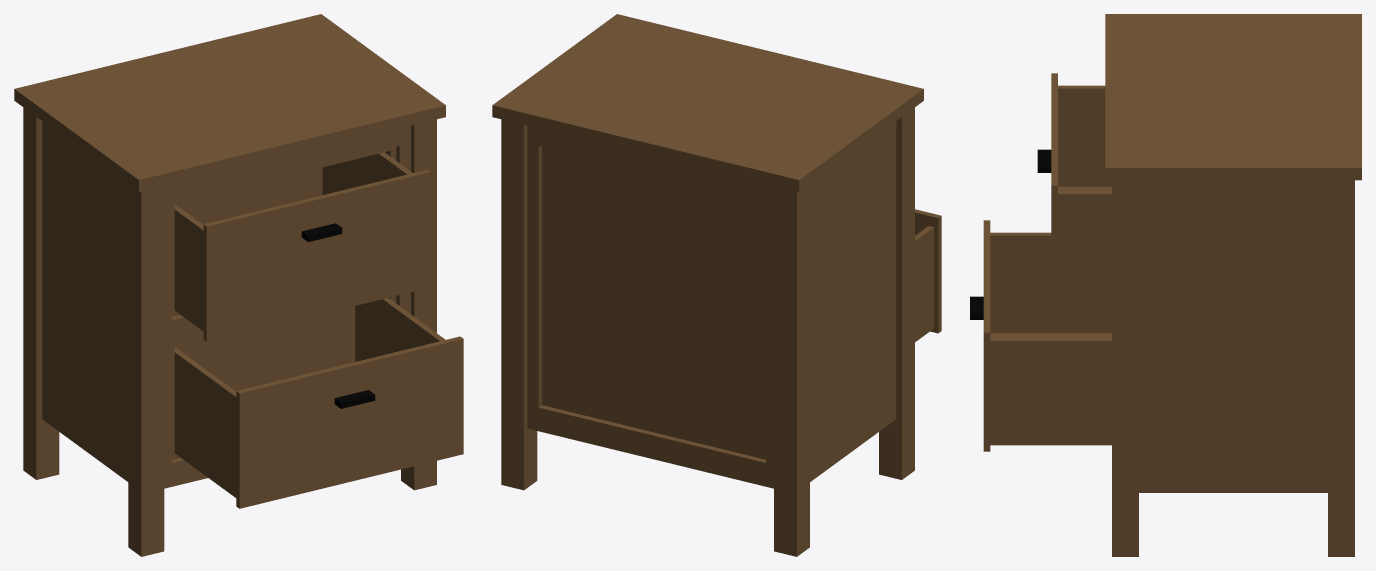
Rendered from JamPre_low_poly_Drawer_Chest.fbx.
The picture shows the model from 3 angles, left to right: view 1: azimuth 30°, elevation 25°; view 2: azimuth 150°, elevation 25°; view 3: azimuth 270°, elevation 25°; orthographic projection. The views are drawn at different scales.
Parts seen in each view (by area): view 1: Closet, Drawer2, Drawer1; view 2: Closet, Drawer2; view 3: Closet, Drawer2, Drawer1.
Boxes of the visible parts, box(x1,y1,x2,y2) form: Closet: box(14, 14, 445, 556); Drawer2: box(174, 298, 463, 508); Drawer1: box(174, 152, 430, 341); Closet: box(492, 14, 923, 556); Drawer2: box(915, 209, 941, 341); Closet: box(1105, 14, 1361, 556); Drawer2: box(970, 220, 1111, 451); Drawer1: box(1037, 73, 1111, 304).
Size of the model in its own units: 54 by 64 by 58.
